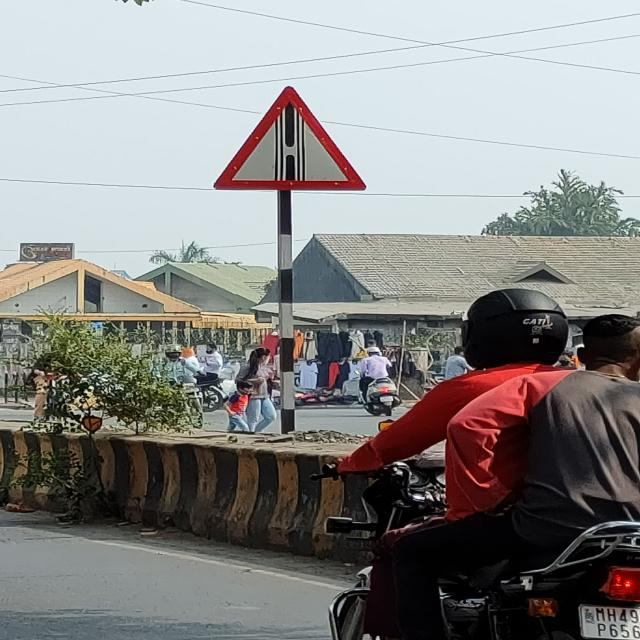GAP_IN_MEDIAN: (213, 88, 369, 192)
